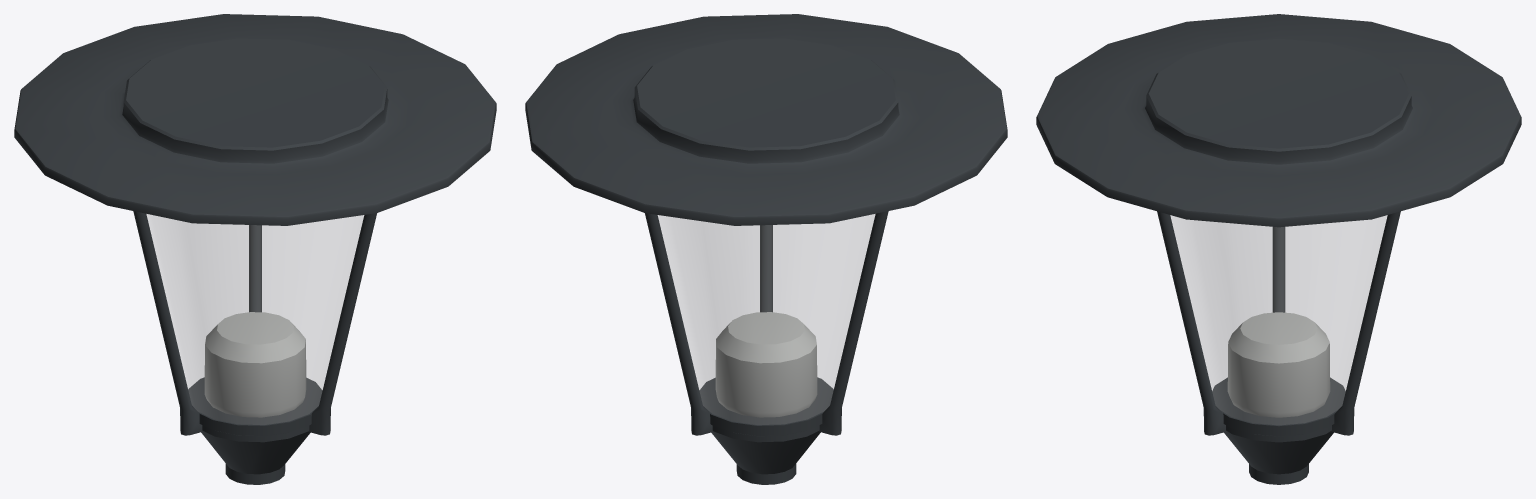
3 renders of one model, left to right at view 1: azimuth 30°, elevation 25°; view 2: azimuth 150°, elevation 25°; view 3: azimuth 270°, elevation 25°, orthographic.
Visible parts, largest first — view 1: BezierCurve.001, Glas, Stab.001; view 2: BezierCurve.001, Glas, Stab.001; view 3: BezierCurve.001, Glas, Stab.001.
Part boxes in pixels (<box>): BezierCurve.001: <box>14,14,496,484</box>; Glas: <box>147,214,363,424</box>; Stab.001: <box>133,211,376,435</box>; BezierCurve.001: <box>525,14,1007,484</box>; Glas: <box>658,214,874,424</box>; Stab.001: <box>645,211,888,435</box>; BezierCurve.001: <box>1036,14,1521,484</box>; Glas: <box>1170,215,1387,424</box>; Stab.001: <box>1157,211,1400,435</box>.
Bounding box in the file's own units: 0.7483 × 0.6439 × 0.7483.
Materials: 6 (5 with a texture image).
